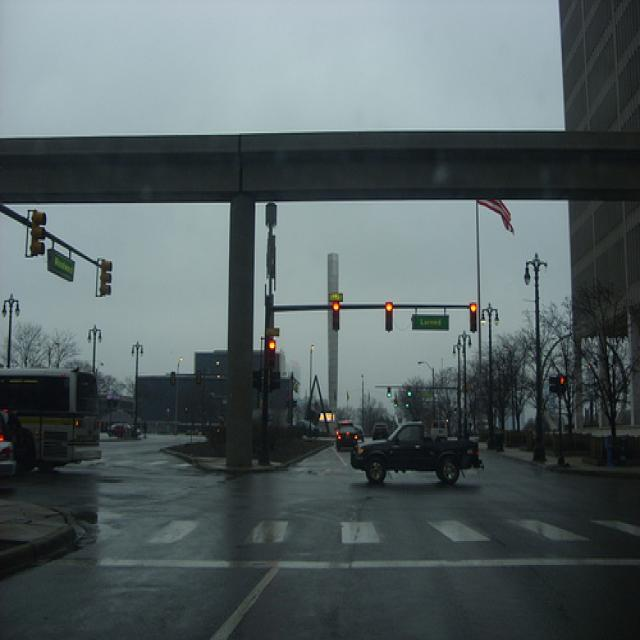Vehicle: (1, 362, 101, 471), (350, 421, 484, 486), (336, 420, 358, 450), (1, 442, 18, 476), (373, 423, 389, 439), (108, 424, 125, 436)
